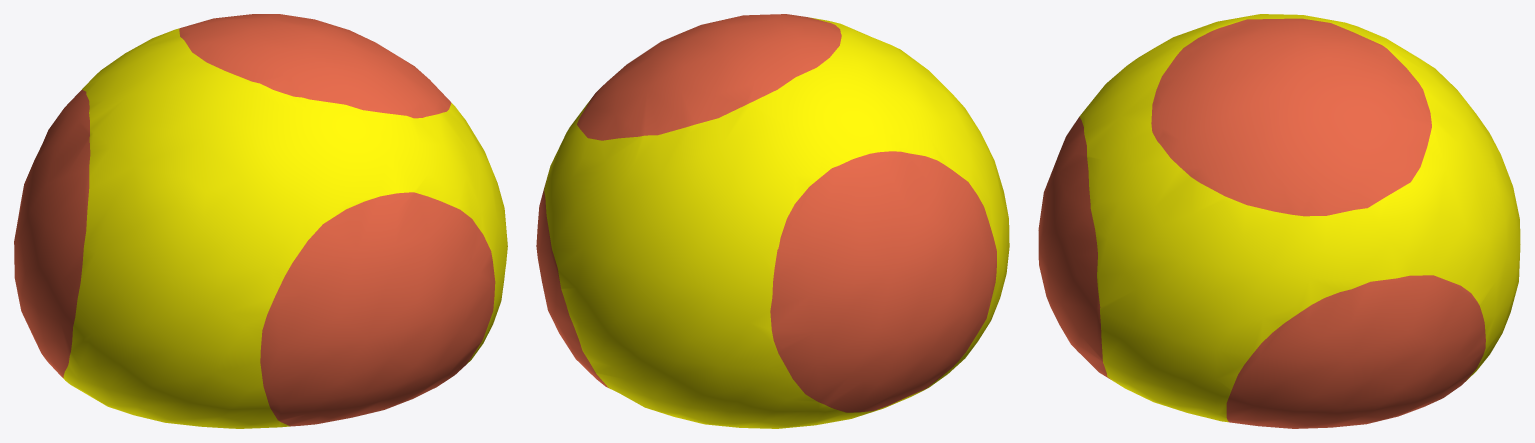
Rendered from ShroomHat.fbx.
The picture shows the model from 3 angles, left to right: view 1: azimuth 30°, elevation 25°; view 2: azimuth 150°, elevation 25°; view 3: azimuth 270°, elevation 25°; orthographic projection. The views are drawn at different scales.
Visible parts, largest first — view 1: ShroomHat; view 2: ShroomHat; view 3: ShroomHat.
Part boxes in pixels (x1,y1,x2,y2): ShroomHat: (14,14,507,428); ShroomHat: (536,14,1009,428); ShroomHat: (1038,14,1520,428).
Size of the model in its own units: 570 by 430 by 570.
